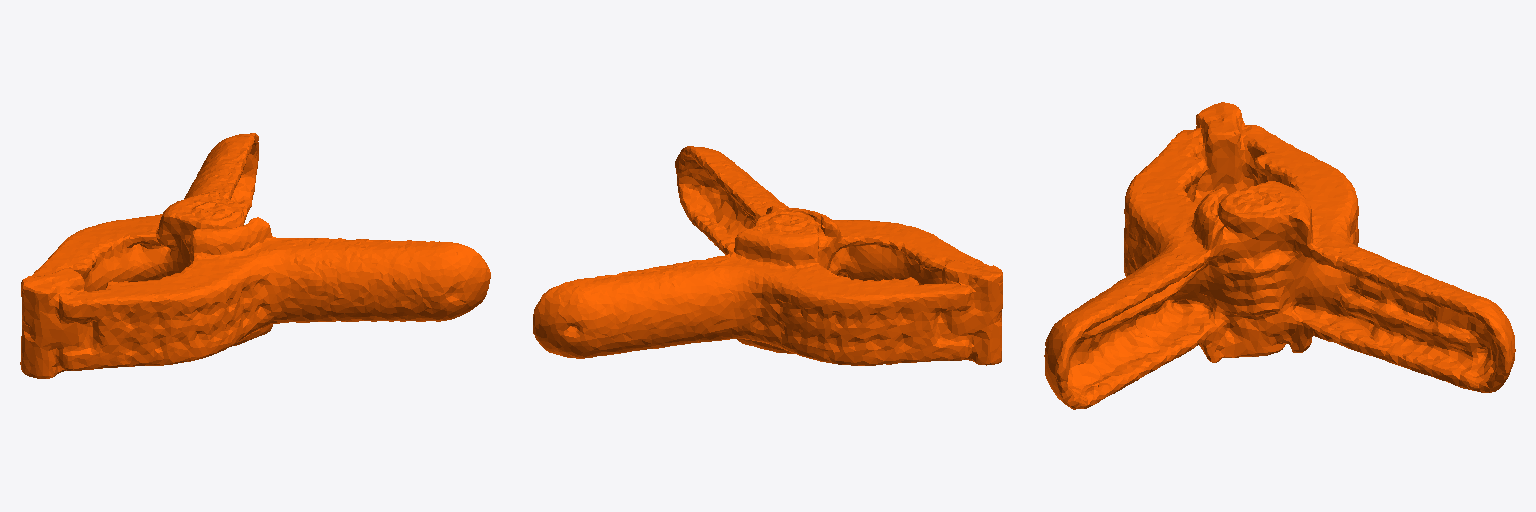
URDF robot description (050_medium_clamp):
<?xml version="1.0" ?>
<robot name="050_medium_clamp">
   <material name="obj_color">
      <color rgba="1.0 0.423529411765 0.0392156862745 1.0"/>
   </material>
   <link name="top">
      <inertial>
         <origin rpy="1.137399178265574e-05 1.699475941955327e-05 2.584852009472887e-05" xyz="-0.005696288465887847 -0.000150340125960162 -0.0007048450895737395"/>
         <mass value="0.0438818225429371"/>
         <inertia ixx="1.148208057046185e-05" ixy="-7.715318699737784e-07" ixz="-6.052294415358394e-08" iyy="1.688834982361655e-05" iyz="1.094539459130824e-07" izz="2.584684090285949e-05"/>
      </inertial>
      <visual>
         <origin rpy="0 0 0" xyz="0 0 0"/>
         <geometry>
            <mesh filename="top_watertight_tiny.stl" scale="1 1 1"/>
         </geometry>
         <material name="obj_color"/>
      </visual>
      <collision>
         <origin rpy="0 0 0" xyz="0 0 0"/>
         <geometry>
            <mesh filename="top_watertight_tiny.obj" scale="1 1 1"/>
         </geometry>
      </collision>
   </link>
   <link name="bottom">
      <inertial>
         <origin rpy="1.633333333199431e-08 1.633333333199431e-08 1.633333333362855e-08" xyz="0.3464080000000008 0.3464080000000008 0.3464080000000008"/>
         <mass value="0.0009800000000000017"/>
         <inertia ixx="1.633333333253906e-08" ixy="5.447480642029219e-19" ixz="5.447480642029219e-19" iyy="1.633333333253906e-08" iyz="5.447480642029219e-19" izz="1.633333333253906e-08"/>
      </inertial>
      <visual>
         <origin rpy="0 0 0" xyz="0 0 0"/>
         <geometry>
            <mesh filename="bottom_watertight_tiny.stl" scale="1 1 1"/>
         </geometry>
         <material name="obj_color"/>
      </visual>
   </link>
   <joint name="rotation" type="revolute">
      <origin xyz="0 0 0"/>
      <axis xyz="0 0 -1"/>
      <parent link="bottom"/>
      <child link="top"/>
      <dynamics damping="1.0" friction="1.0"/>
      <limit effort="0.1" velocity="0.1" lower="0" upper="0.001"/>
   </joint>
</robot>

--- Render facts (derived) ---
3 views of the same robot in one strip: view 1: azimuth 30°, elevation 25°; view 2: azimuth 150°, elevation 25°; view 3: azimuth 270°, elevation 25° (orthographic).
Robot: 050_medium_clamp — 2 links, 1 joints (1 revolute); root link bottom; default pose: every joint at zero.
Links seen in each view (by area): view 1: top; view 2: top; view 3: top.
Link boxes in pixels (x1,y1,x2,y2): top: [20, 133, 490, 378]; top: [533, 146, 1002, 365]; top: [1044, 102, 1515, 409].
Size in the robot's own frame: 0.0889 by 0.0768 by 0.0261 metres.
Meshes: 2 distinct files referenced, 1 mesh visuals loaded (1 binary STL); not drawn: 1 (reference not matched to a file when rendering).
